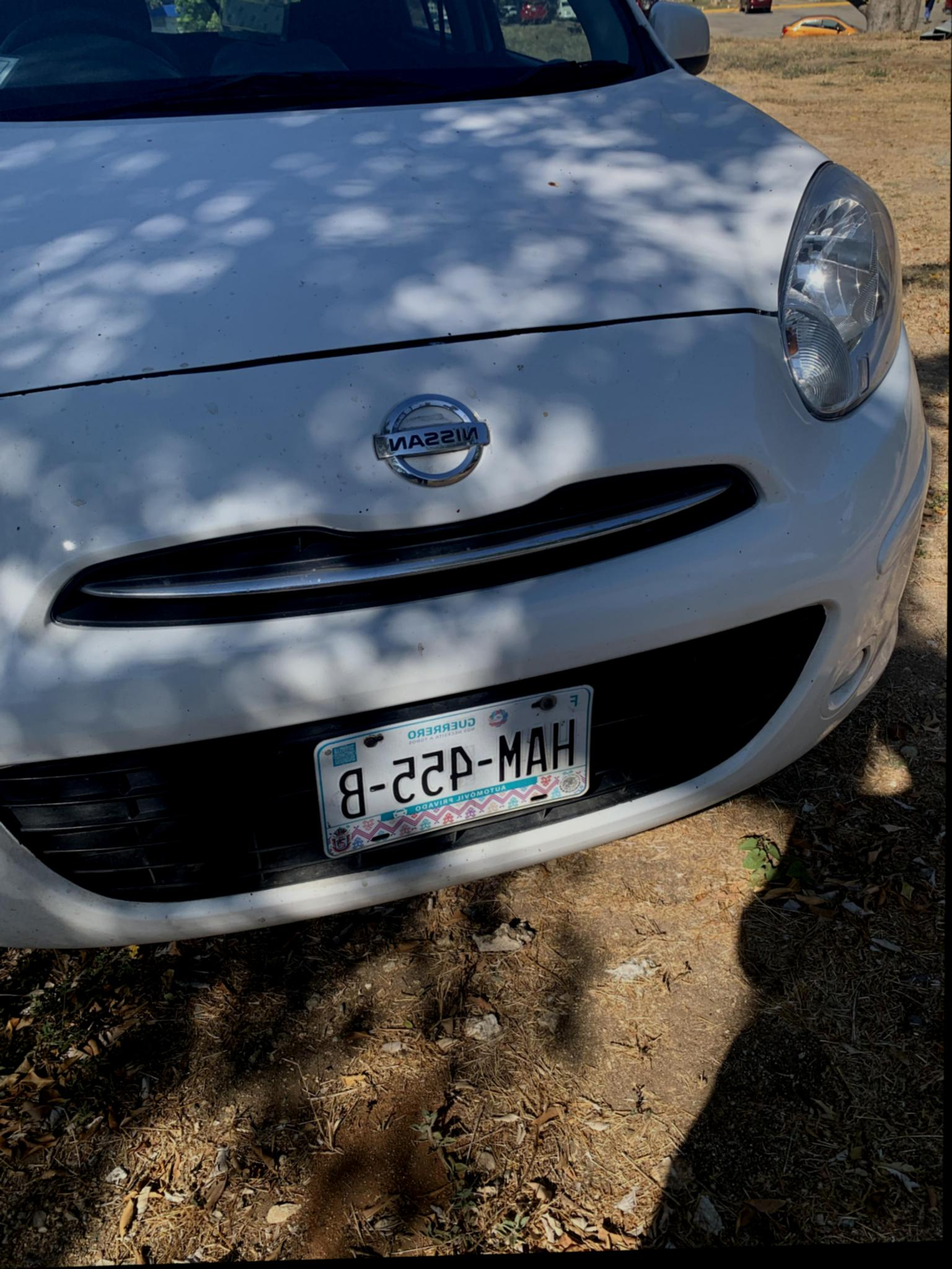License_Plate: (306, 667, 630, 875)
